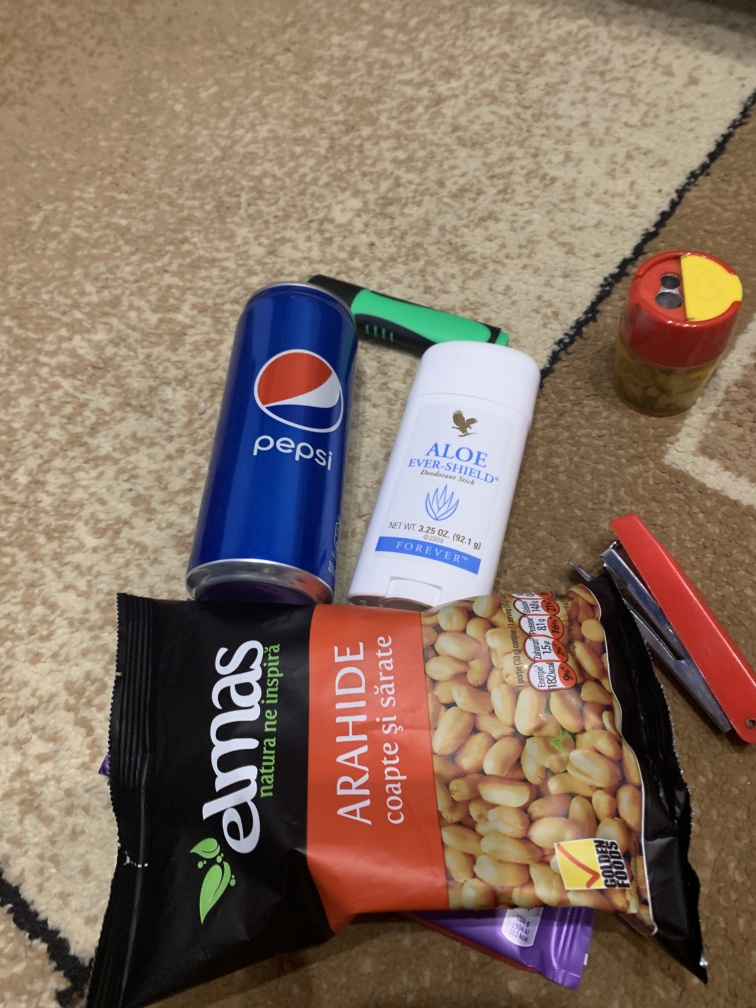peanuts: (80, 582, 716, 976)
pepsi: (180, 276, 358, 601)
